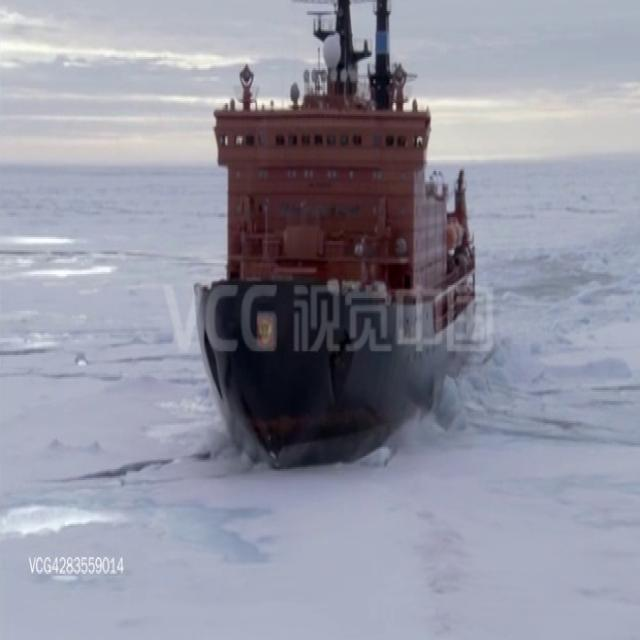cargoship: (185, 0, 475, 462)
